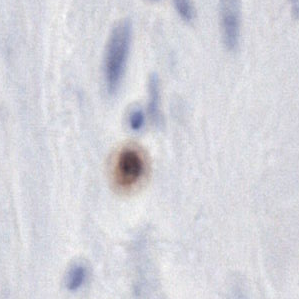Lymphocyte: (151, 155, 185, 182)
